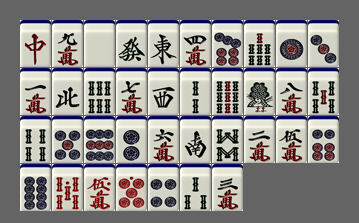0m: (84, 164, 115, 211)
0p: (116, 164, 147, 211)
0s: (52, 164, 83, 211)
1m: (20, 68, 51, 115)
1p: (276, 20, 307, 67)
1s: (244, 68, 275, 115)
1z: (148, 20, 179, 67)
2m: (244, 116, 275, 163)
2p: (116, 116, 147, 163)
2s: (180, 68, 211, 115)
2z: (180, 116, 211, 163)
3m: (212, 164, 243, 211)
3p: (308, 20, 339, 67)
3s: (180, 164, 211, 211)
3z: (148, 68, 179, 115)
4m: (180, 20, 211, 67)
4p: (148, 164, 179, 211)
4s: (20, 116, 51, 163)
4z: (52, 68, 83, 115)
5m: (276, 116, 307, 163)
5p: (52, 116, 83, 163)
5s: (308, 68, 339, 115)
5z: (84, 20, 115, 67)
6m: (148, 116, 179, 163)
6p: (308, 116, 339, 163)
6s: (84, 68, 115, 115)
6z: (116, 20, 147, 67)
7m: (116, 68, 147, 115)
7p: (212, 20, 243, 67)
7s: (244, 20, 275, 67)
7z: (20, 20, 51, 67)
8m: (276, 68, 307, 115)
8p: (20, 164, 51, 211)
8s: (212, 116, 243, 163)
9m: (52, 20, 83, 67)
9p: (84, 116, 115, 163)
9s: (212, 68, 243, 115)
